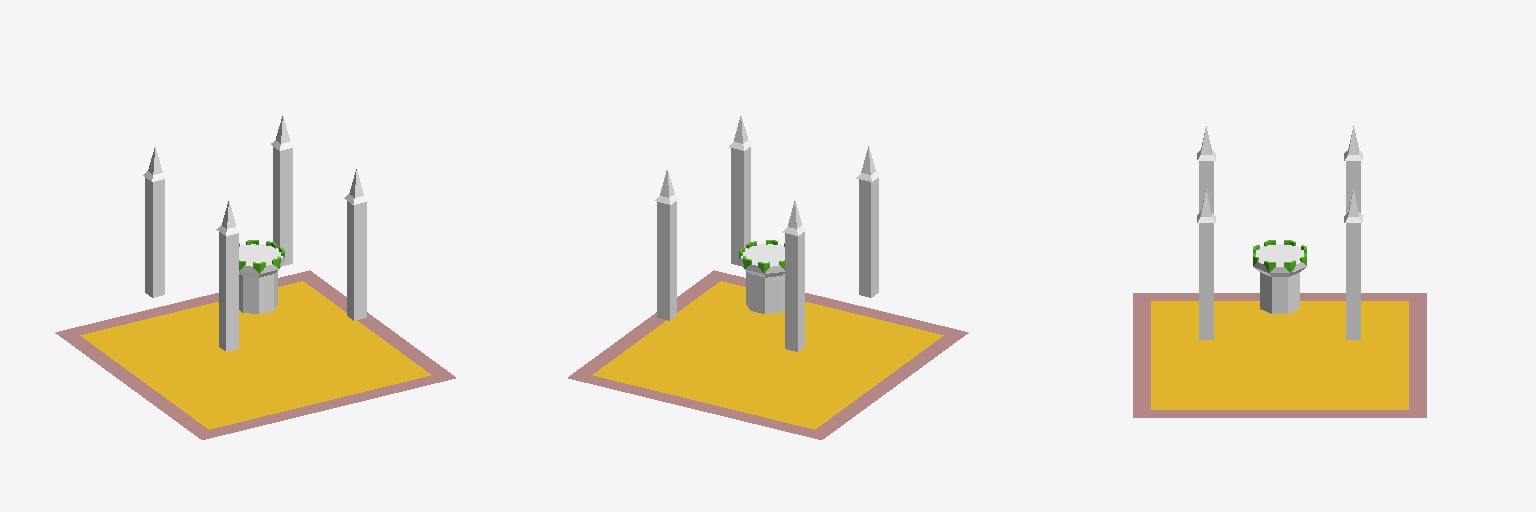
Rendered from Wing Cap Area 1.obj.
The picture shows the model from 3 angles: view 1: azimuth 30°, elevation 25°; view 2: azimuth 150°, elevation 25°; view 3: azimuth 270°, elevation 25°; orthographic projection.
Size of the model in its own units: 32766 by 24370 by 32766.